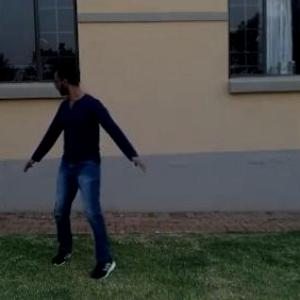land: (17, 50, 144, 269)
